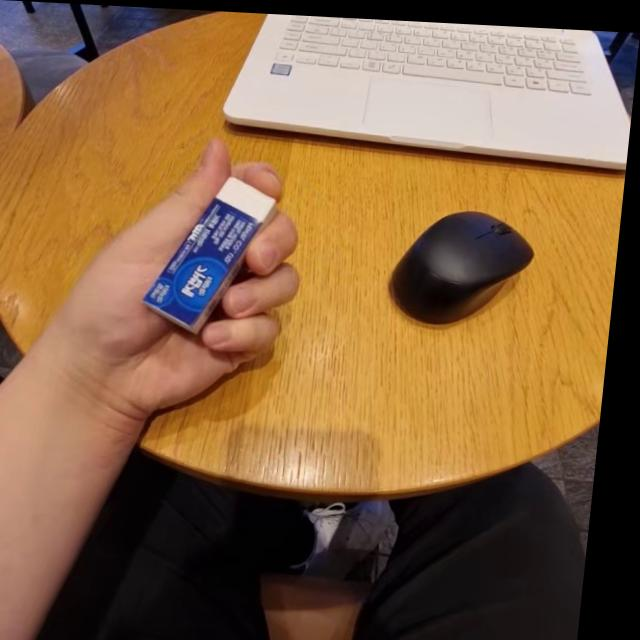grab_eraser: (87, 134, 301, 419)
mouse: (358, 198, 545, 331)
